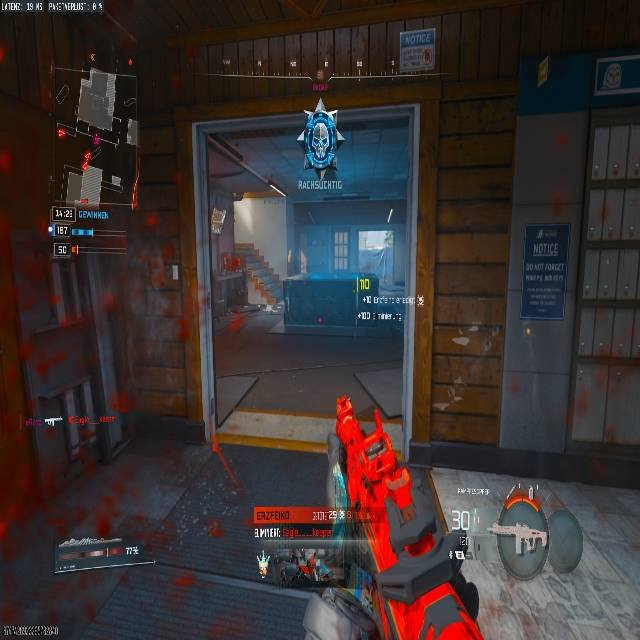head: (495, 485, 550, 577), (79, 428, 91, 440)
player: (491, 483, 639, 638), (300, 103, 343, 183), (67, 428, 95, 478)
